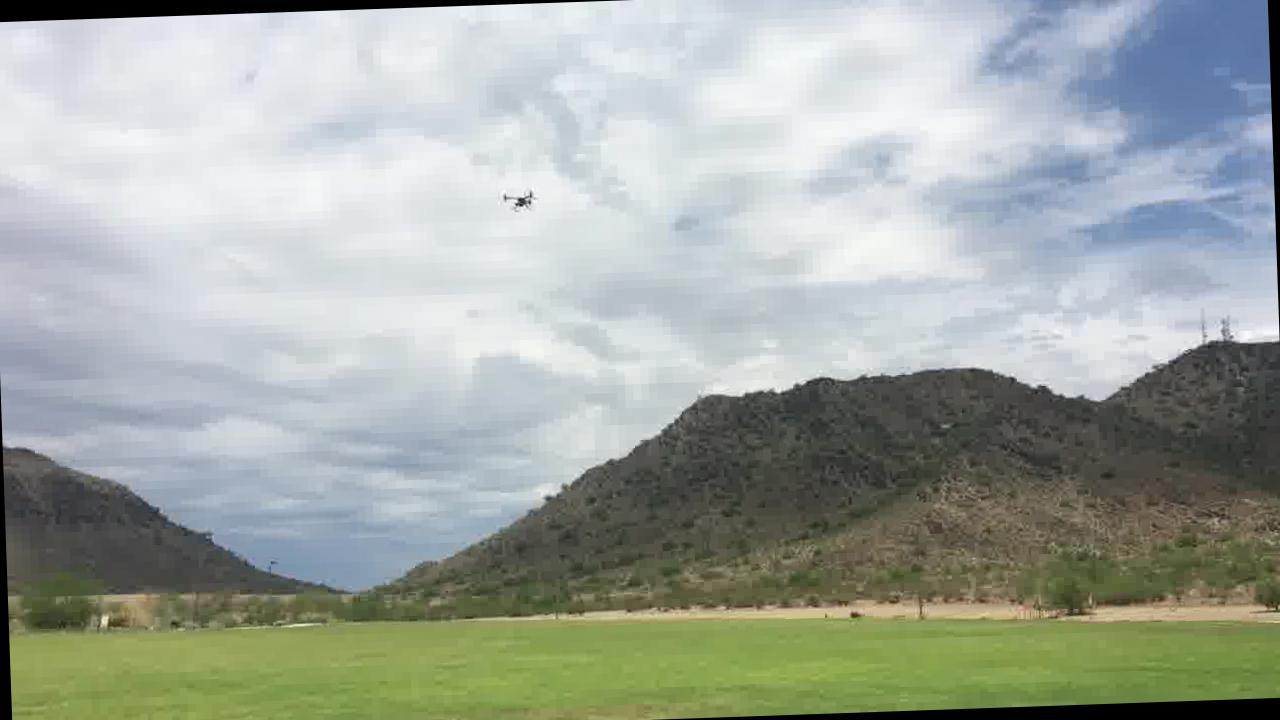drone: (499, 188, 539, 214)
